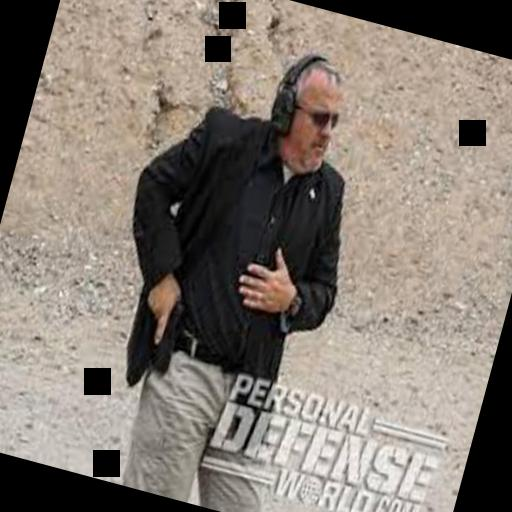Handgun: (122, 286, 186, 380)
